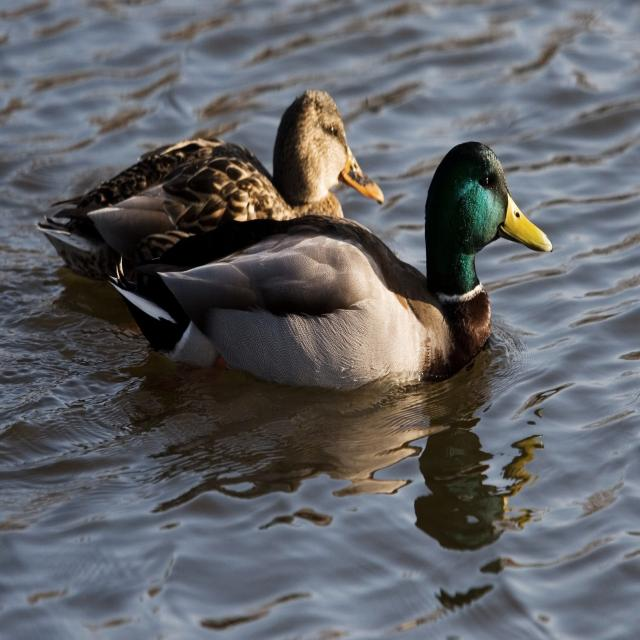duck: (111, 142, 552, 388), (37, 90, 384, 279)
